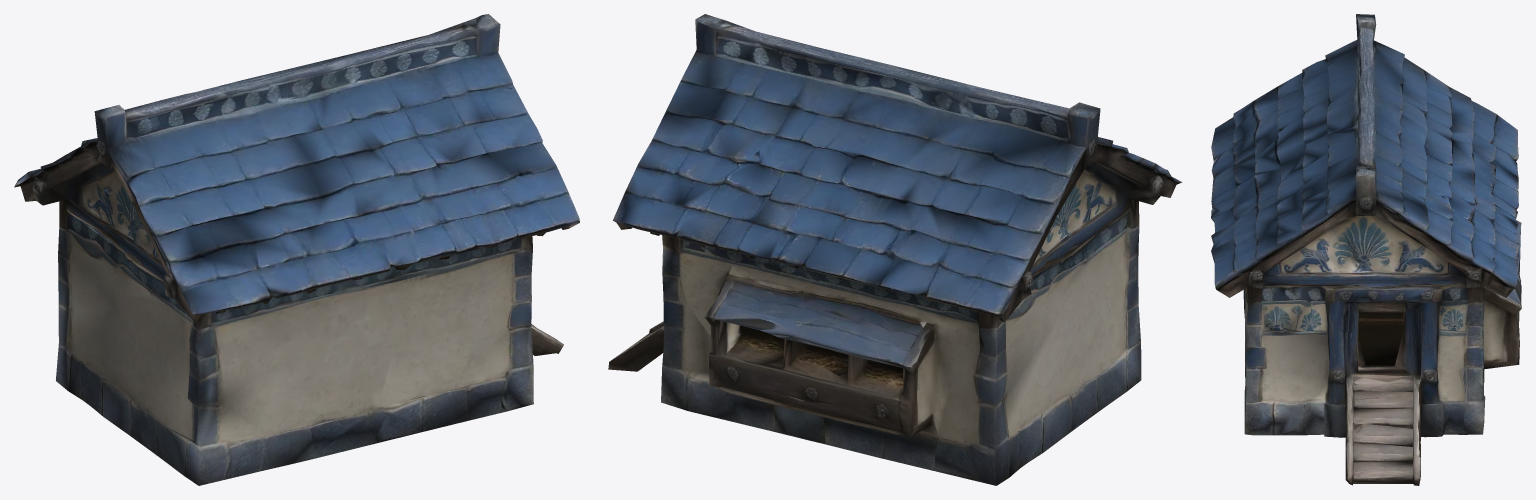
File: coop_0.glb
3 renders of one model, left to right at view 1: azimuth 30°, elevation 25°; view 2: azimuth 150°, elevation 25°; view 3: azimuth 270°, elevation 25°, orthographic. The views are drawn at different scales.
Visible parts, largest first — view 1: tripo_node_5f1ef6ec-382a-497c-8f4a-978bdf5cd52b; view 2: tripo_node_5f1ef6ec-382a-497c-8f4a-978bdf5cd52b; view 3: tripo_node_5f1ef6ec-382a-497c-8f4a-978bdf5cd52b.
Boxes of the visible parts, box(x1,y1,x2,y2) form: tripo_node_5f1ef6ec-382a-497c-8f4a-978bdf5cd52b: box(14, 14, 579, 485); tripo_node_5f1ef6ec-382a-497c-8f4a-978bdf5cd52b: box(608, 14, 1182, 485); tripo_node_5f1ef6ec-382a-497c-8f4a-978bdf5cd52b: box(1211, 14, 1521, 485).
Size of the model in its own units: 0.9797 by 0.7118 by 0.6937.
Materials: 1 (1 with a texture image).
